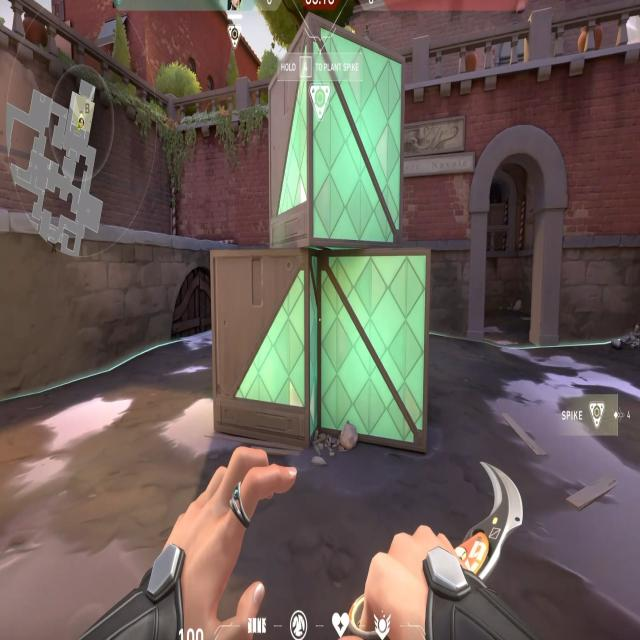B_Boathouse: (472, 118, 570, 352)
B_Site_Box: (207, 0, 447, 461)
